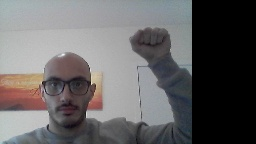Pugno: (126, 26, 172, 61)
